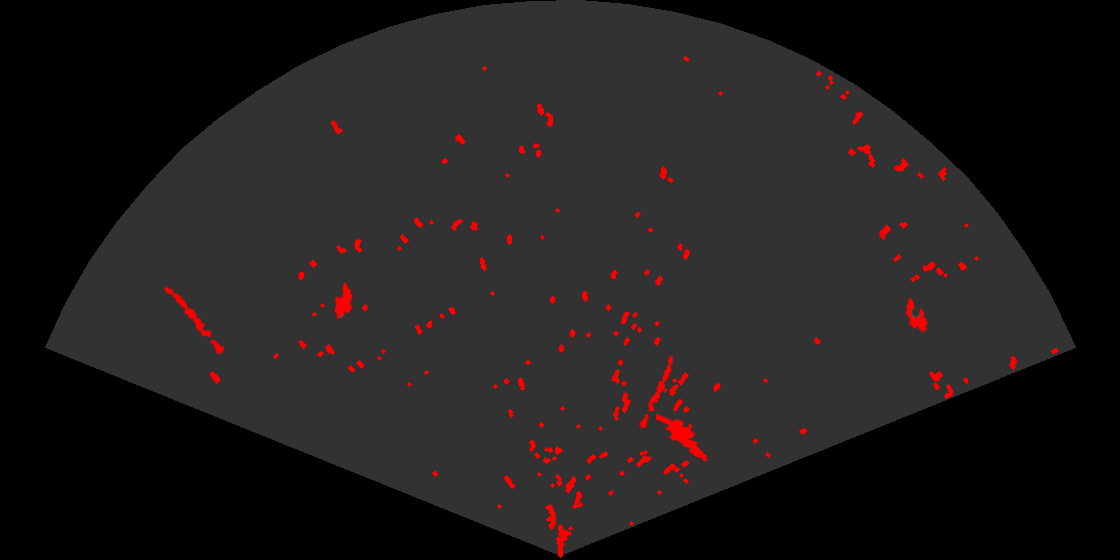AUV: (904, 296, 929, 334), (332, 281, 353, 321)
chain: (162, 285, 230, 359), (636, 353, 675, 436)
frogman: (656, 412, 709, 463)
